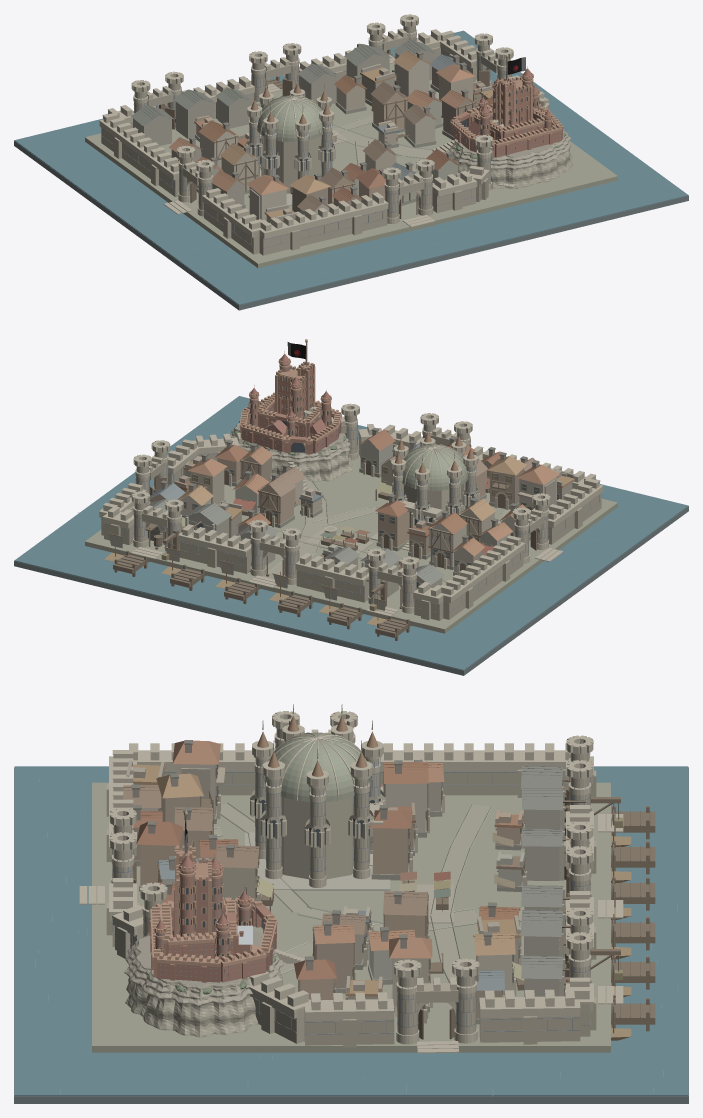
The model's file is kings-landing.glb.
3 renders of one model, top to bottom at view 1: azimuth 30°, elevation 25°; view 2: azimuth 150°, elevation 25°; view 3: azimuth 270°, elevation 25°, orthographic. The views are drawn at different scales.
Parts seen in each view (by area): view 1: کینگزلندینگ; view 2: کینگزلندینگ; view 3: کینگزلندینگ.
Boxes of the visible parts, bbox=[...] form: کینگزلندینگ: bbox=[14, 14, 688, 310]; کینگزلندینگ: bbox=[14, 339, 688, 675]; کینگزلندینگ: bbox=[14, 704, 688, 1103].
Size of the model in its own units: 15.06 by 4.3 by 13.
2 materials, 1 textured.
